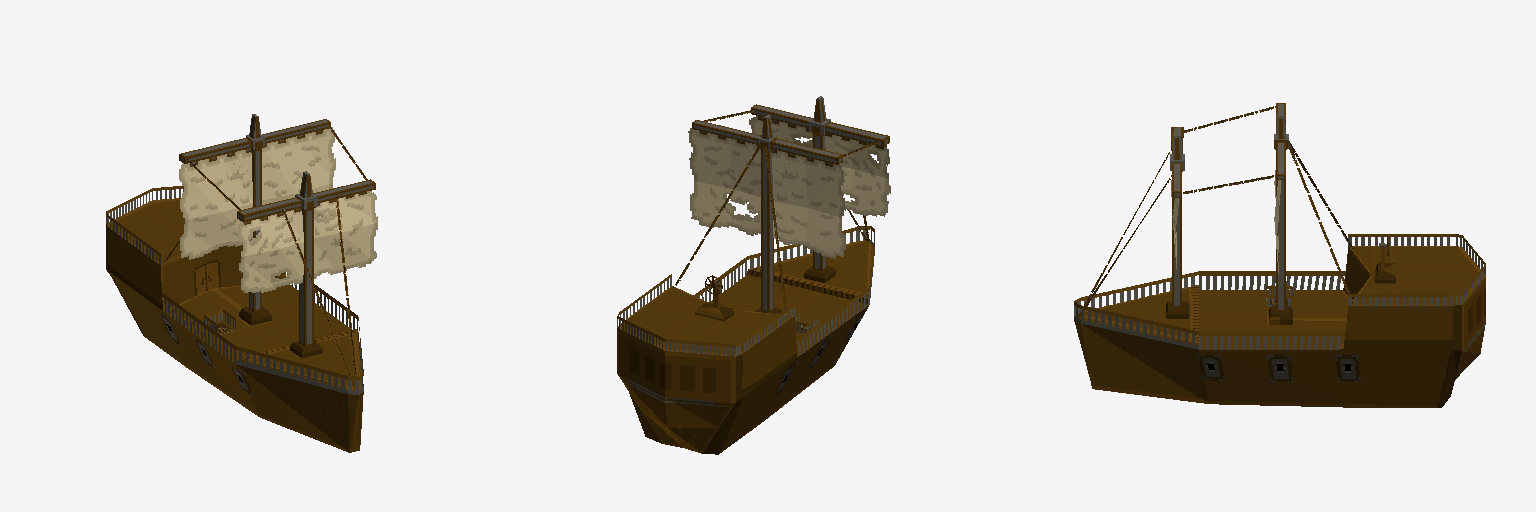
The picture shows the model from 3 angles: view 1: azimuth 30°, elevation 25°; view 2: azimuth 150°, elevation 25°; view 3: azimuth 270°, elevation 25°; orthographic projection.
Parts seen in each view (by area): view 1: ship_Cube.001; view 2: ship_Cube.001; view 3: ship_Cube.001.
Part boxes in pixels (x1,y1,x2,y2): ship_Cube.001: (106,114,377,452); ship_Cube.001: (617,96,890,454); ship_Cube.001: (1074,103,1485,407).
Size of the model in its own units: 2.58 by 4.36 by 5.81.
3 materials, 1 textured.